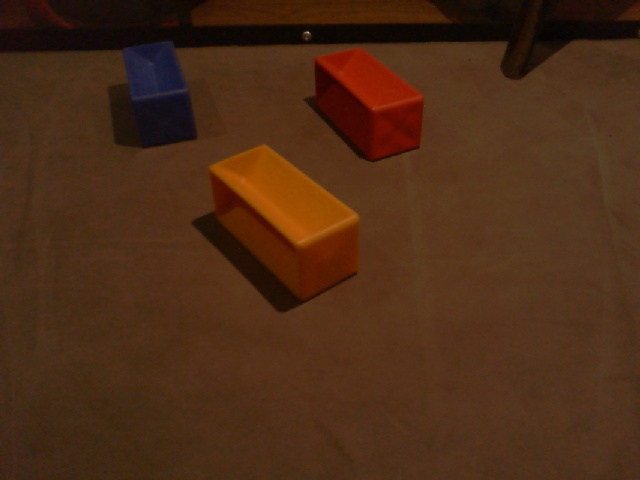BlueSample: (121, 41, 200, 149)
RedSample: (311, 48, 424, 161)
YellowSample: (208, 142, 361, 306)
